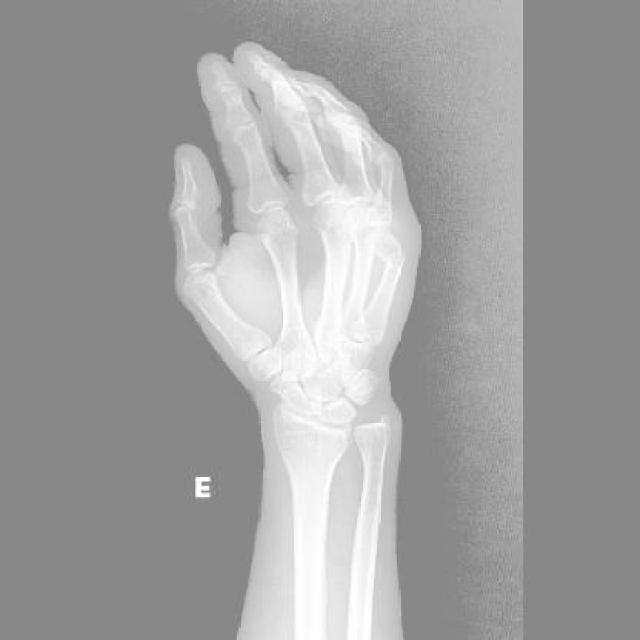Fracture: (380, 239, 409, 273)
